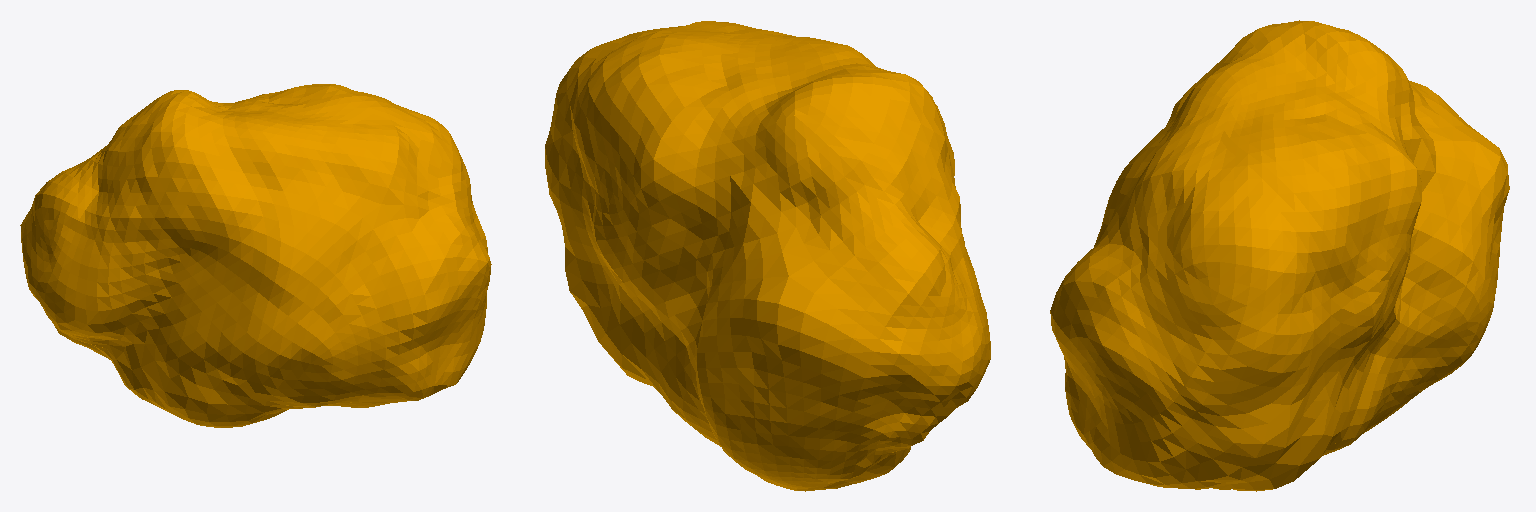
The robot description file, URDF, robot "rock":
<?xml version="1.0" ?>
<robot name="rock">
  <link name="rock">
    <inertial>
      <mass value="0.255"/>
      <origin rpy="0 0 0" xyz="0 0 0"/>
      <inertia ixx="0.000255" ixy="0" ixz="0" iyy="0.000255" iyz="0" izz="0.000255"/>
    </inertial>
    <collision name="rock_collision">
      <origin rpy="0 0 0" xyz="0 0 0"/>
      <geometry>
        <mesh filename="package://rocks/visual/147.dae" scale="1 1 1"/>
      </geometry>
    </collision>
    <visual name="rock_visual">
      <origin rpy="0 0 0" xyz="0 0 0"/>
      <geometry>
        <mesh filename="package://rocks/visual/147.dae" scale="1 1 1"/>
      </geometry>
    </visual>
  </link>
</robot>

--- Render facts (derived) ---
Views: 3 orthographic renders of the robot side by side, from view 1: azimuth 30°, elevation 25°; view 2: azimuth 150°, elevation 25°; view 3: azimuth 270°, elevation 25°.
Robot: rock — 1 links, 0 joints (none); root link rock; default pose: all joints at 0.
Links seen in each view (by area): view 1: rock; view 2: rock; view 3: rock.
Boxes of the visible links, <box> form: rock: <box>20,84,491,427</box>; rock: <box>545,21,990,491</box>; rock: <box>1050,20,1509,491</box>.
Size in the robot's own frame: 0.0858 by 0.0733 by 0.0685 metres.
1 mesh visuals loaded from 1 distinct referenced files (1 Collada DAE).